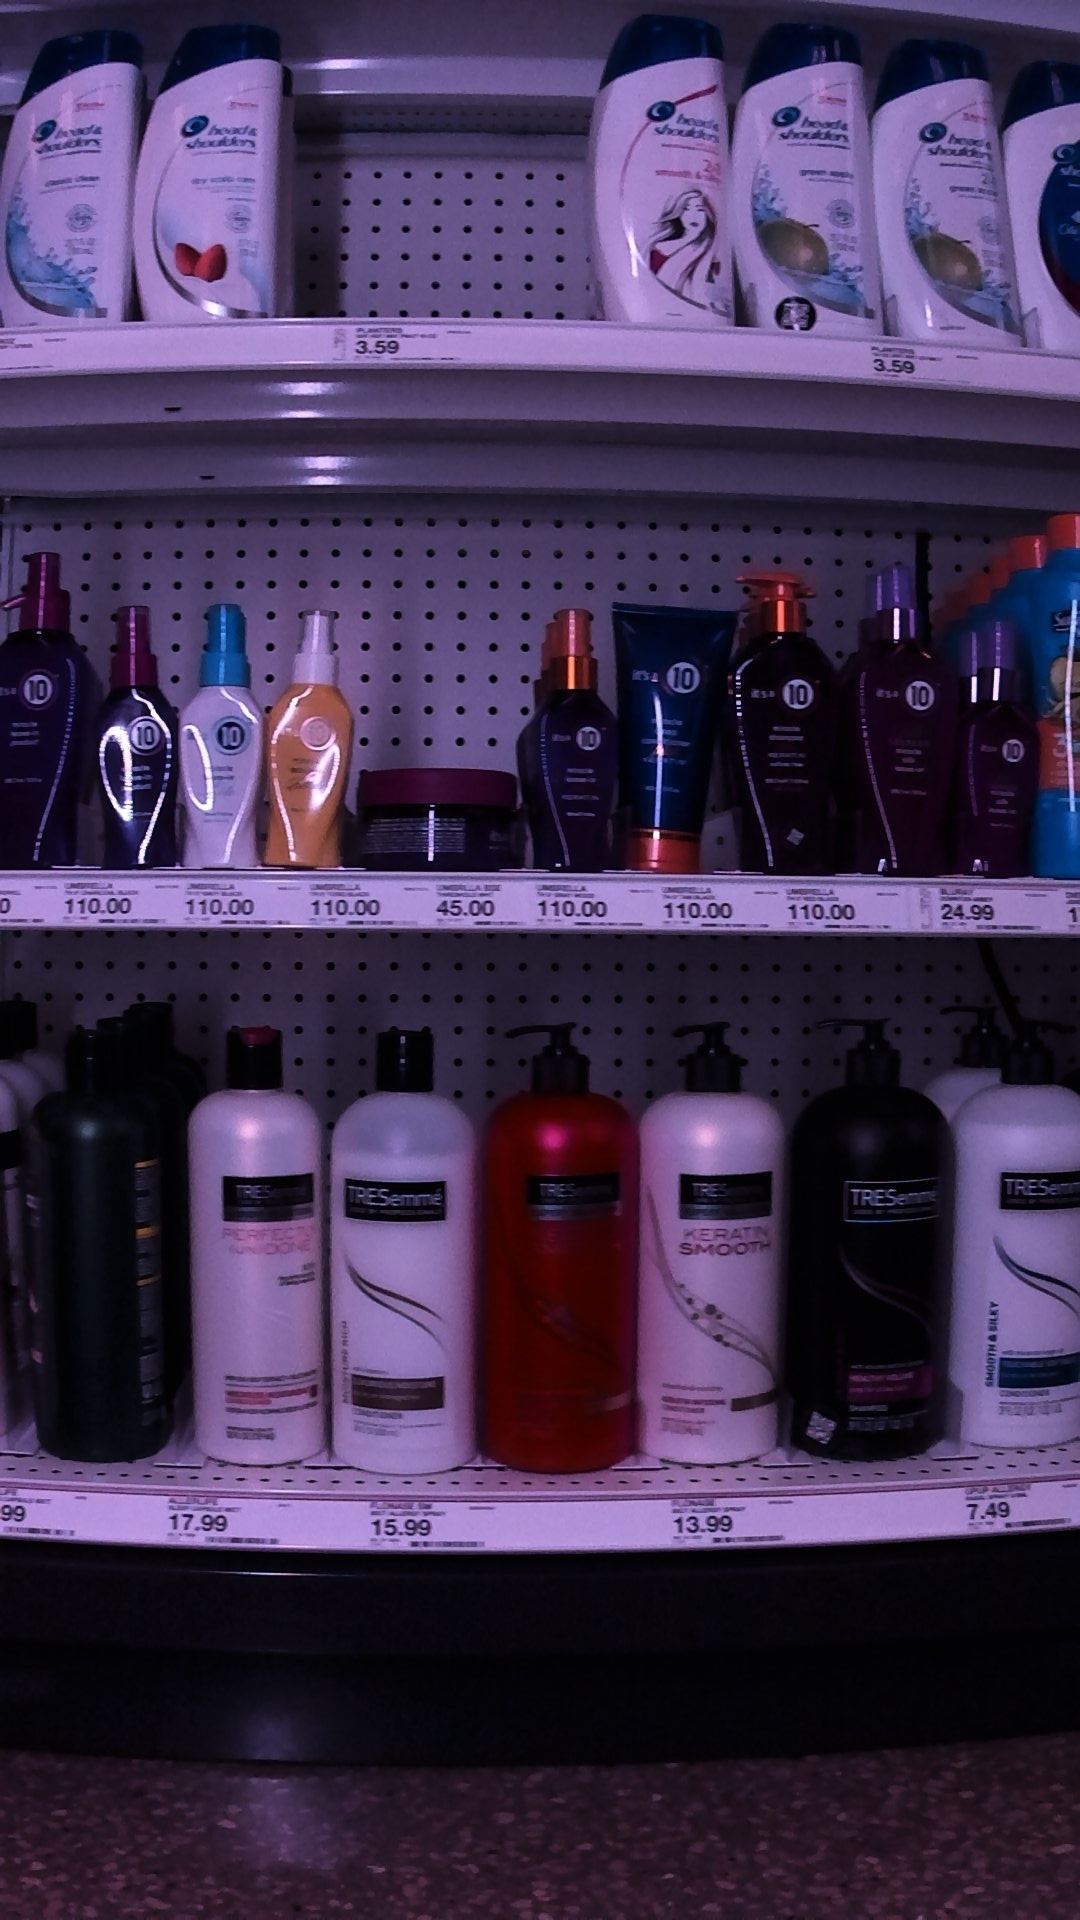ptag: (328, 309, 475, 375), (915, 873, 1046, 942), (673, 1486, 798, 1551), (529, 873, 646, 938), (58, 864, 160, 935), (301, 869, 409, 935), (185, 862, 284, 934), (162, 1491, 282, 1549), (367, 1495, 493, 1549), (960, 1482, 1080, 1538), (785, 880, 889, 942), (858, 338, 975, 393), (659, 876, 760, 935), (1, 1484, 91, 1542), (429, 876, 516, 935)
